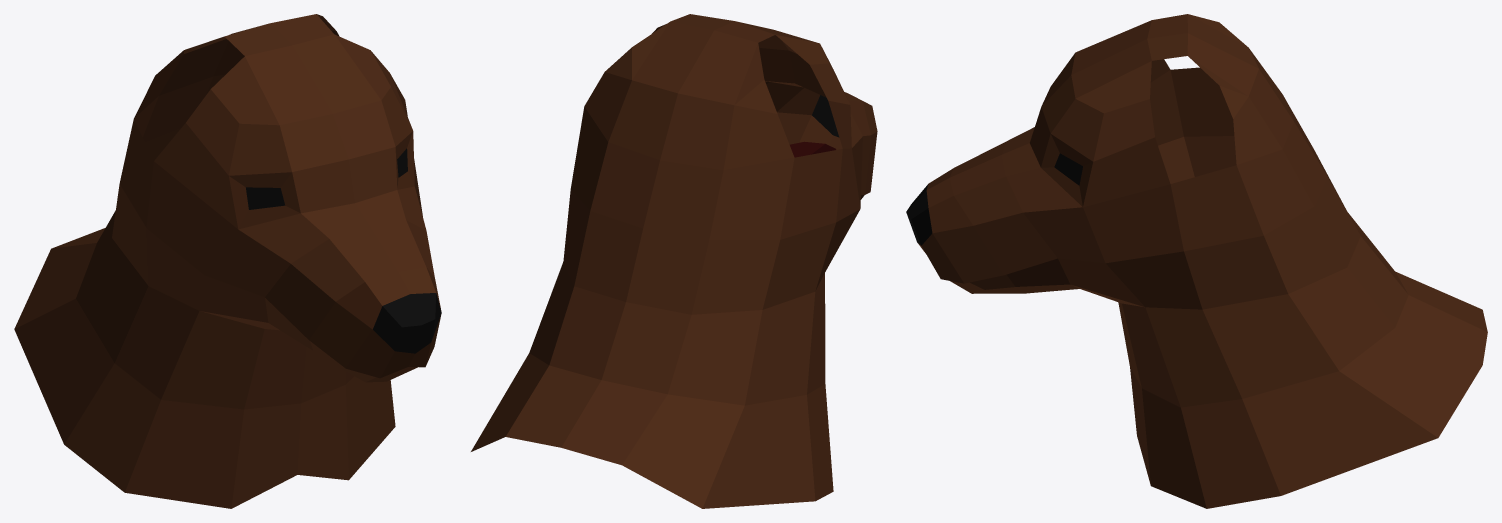
The model's file is testa_collo_dog.obj.
3 views of the same model, side by side, from view 1: azimuth 30°, elevation 25°; view 2: azimuth 150°, elevation 25°; view 3: azimuth 270°, elevation 25° (orthographic). The views are drawn at different scales.
Visible parts, largest first — view 1: testa_collo; view 2: testa_collo; view 3: testa_collo.
Part boxes in pixels (left/top/right/bottom): testa_collo: left=14, top=14, right=441, bottom=508; testa_collo: left=471, top=14, right=877, bottom=508; testa_collo: left=906, top=14, right=1487, bottom=508.
Bounding box in the file's own units: 0.2111 × 0.2949 × 0.3648.
